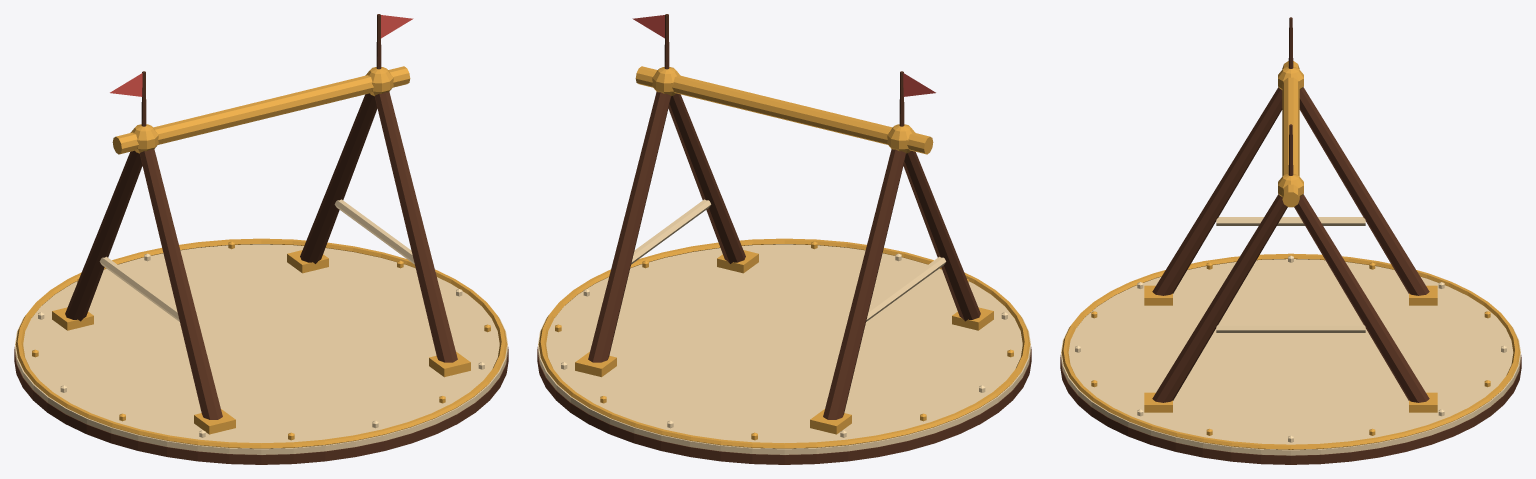
Rendered from ParkParkPirateBase.obj.
3 renders of one model, left to right at view 1: azimuth 30°, elevation 25°; view 2: azimuth 150°, elevation 25°; view 3: azimuth 270°, elevation 25°, orthographic. The views are drawn at different scales.
Parts seen in each view (by area): view 1: ParkParkPirateBase; view 2: ParkParkPirateBase; view 3: ParkParkPirateBase.
Boxes of the visible parts, x1,y1,x2,y2 form: ParkParkPirateBase: [14, 14, 508, 464]; ParkParkPirateBase: [537, 14, 1031, 464]; ParkParkPirateBase: [1060, 17, 1521, 464].
Bounding box in the file's own units: 16.04 × 11.35 × 16.04.
